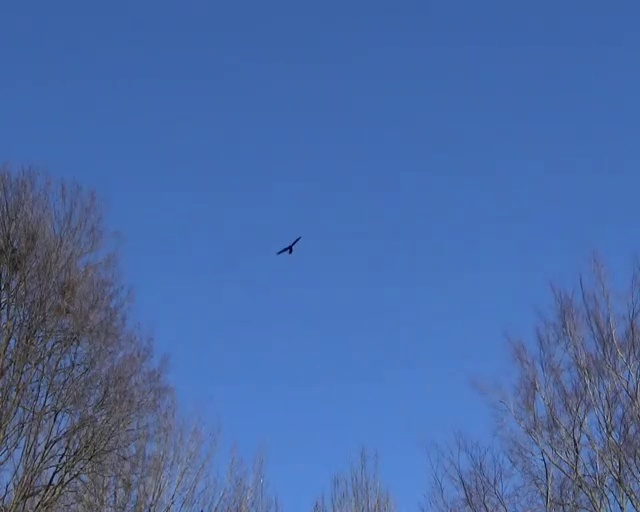BIRD: (276, 236, 302, 255)
